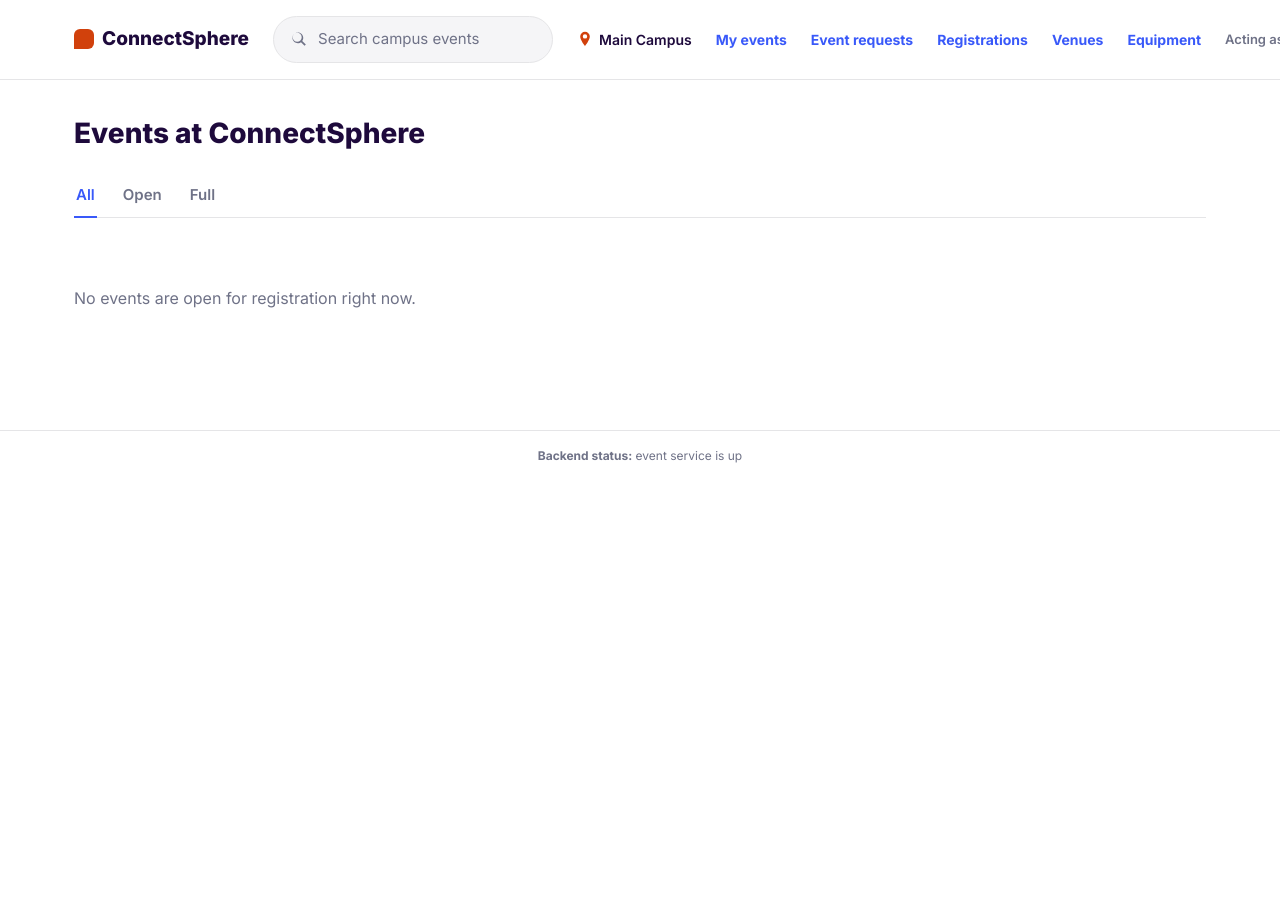
it: venue calendar (US21) › TC-US21-20: a coordinator sees another coordinator's booking without its reference (D58)
Click the button "Venues". click: (1078,39)
box: [1052,29,1104,50]
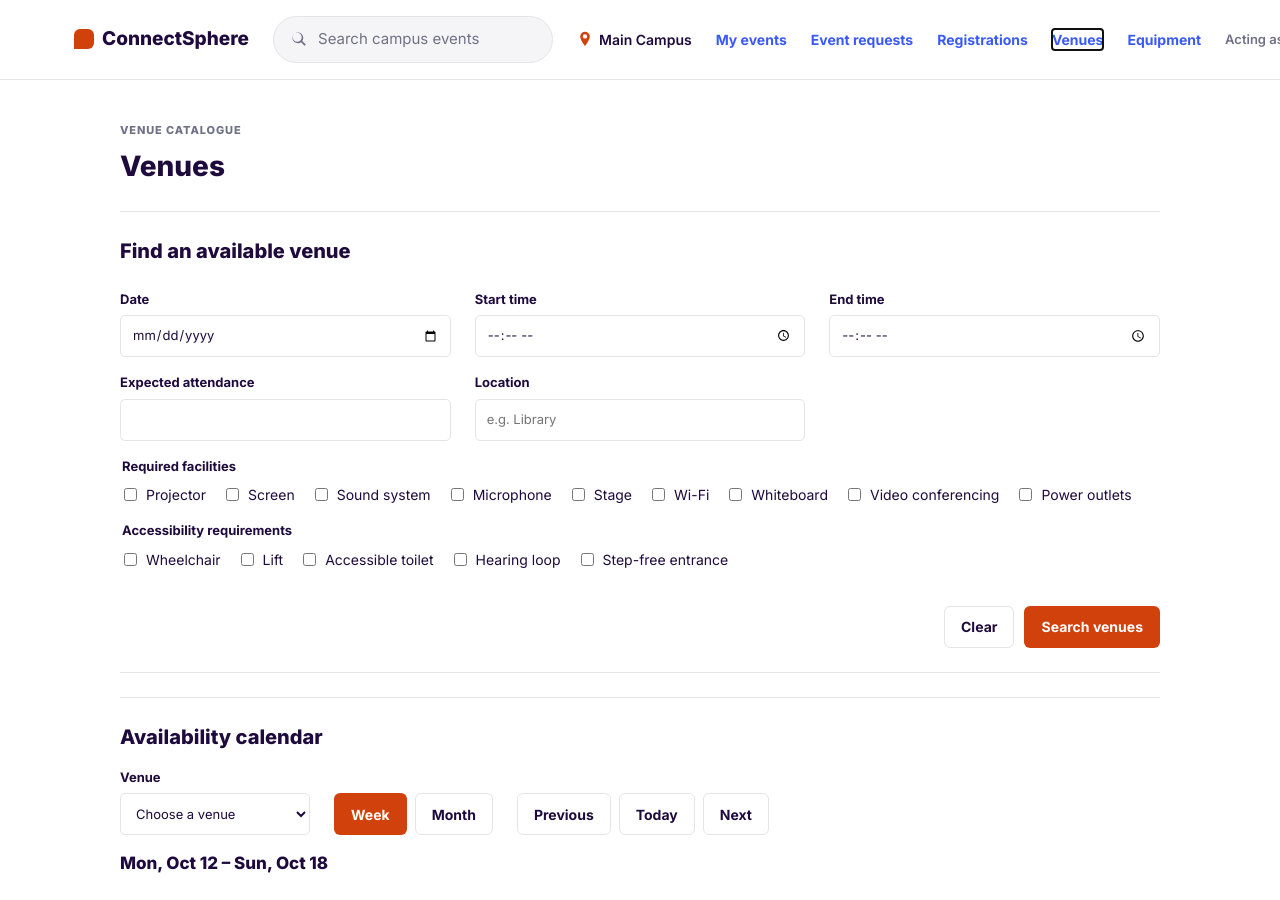
Expected: the heading "Venues" is shown, [120,144,242,186]
Select "SCIS Seminar Room 2-1" in the dropdown labelled "Venue". click: (215,814)
box: [120,793,310,835]
(page scrolled)
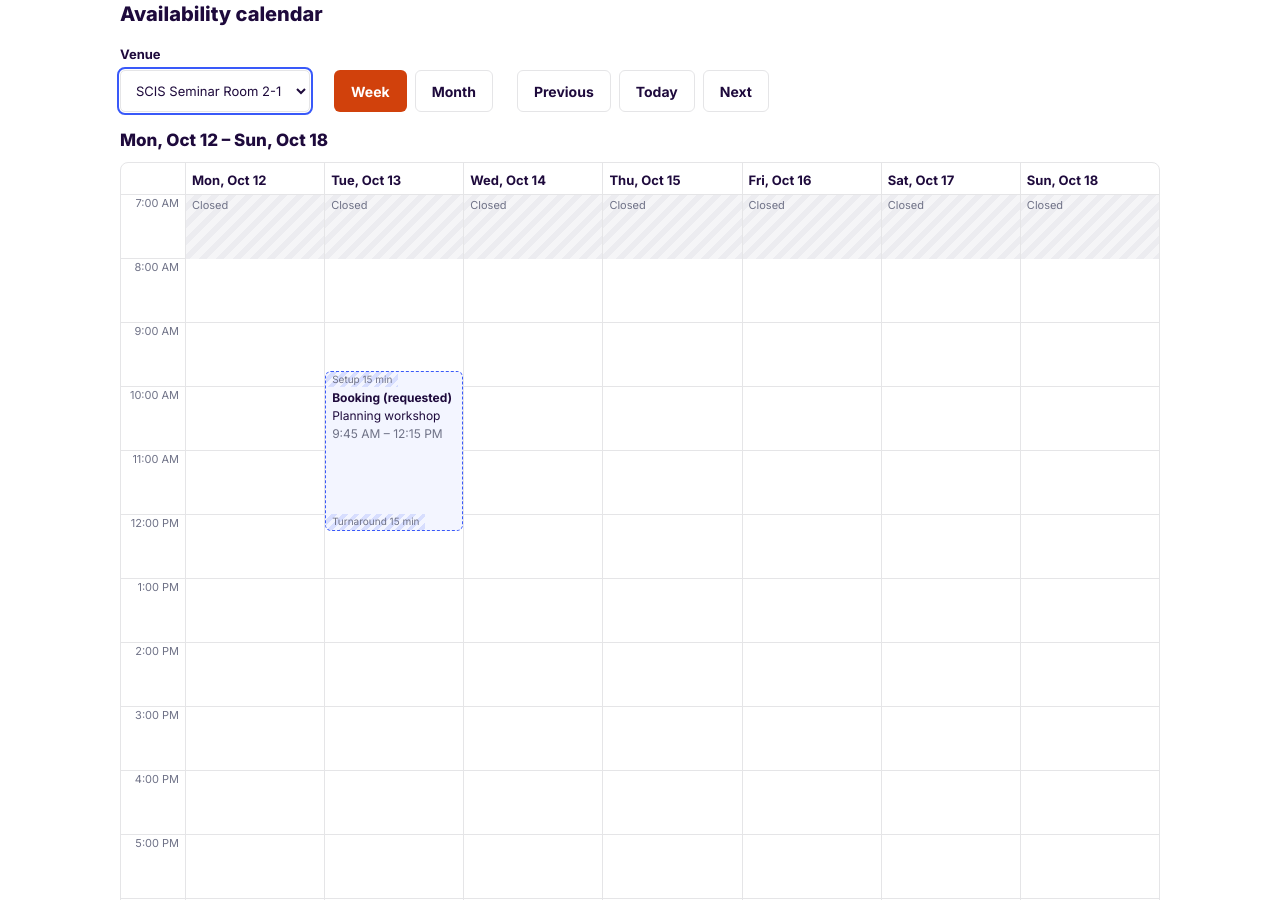
Click the button with aria-label "Booking (requested): Planning workshop". click: (394,450)
box: [325,370,463,530]
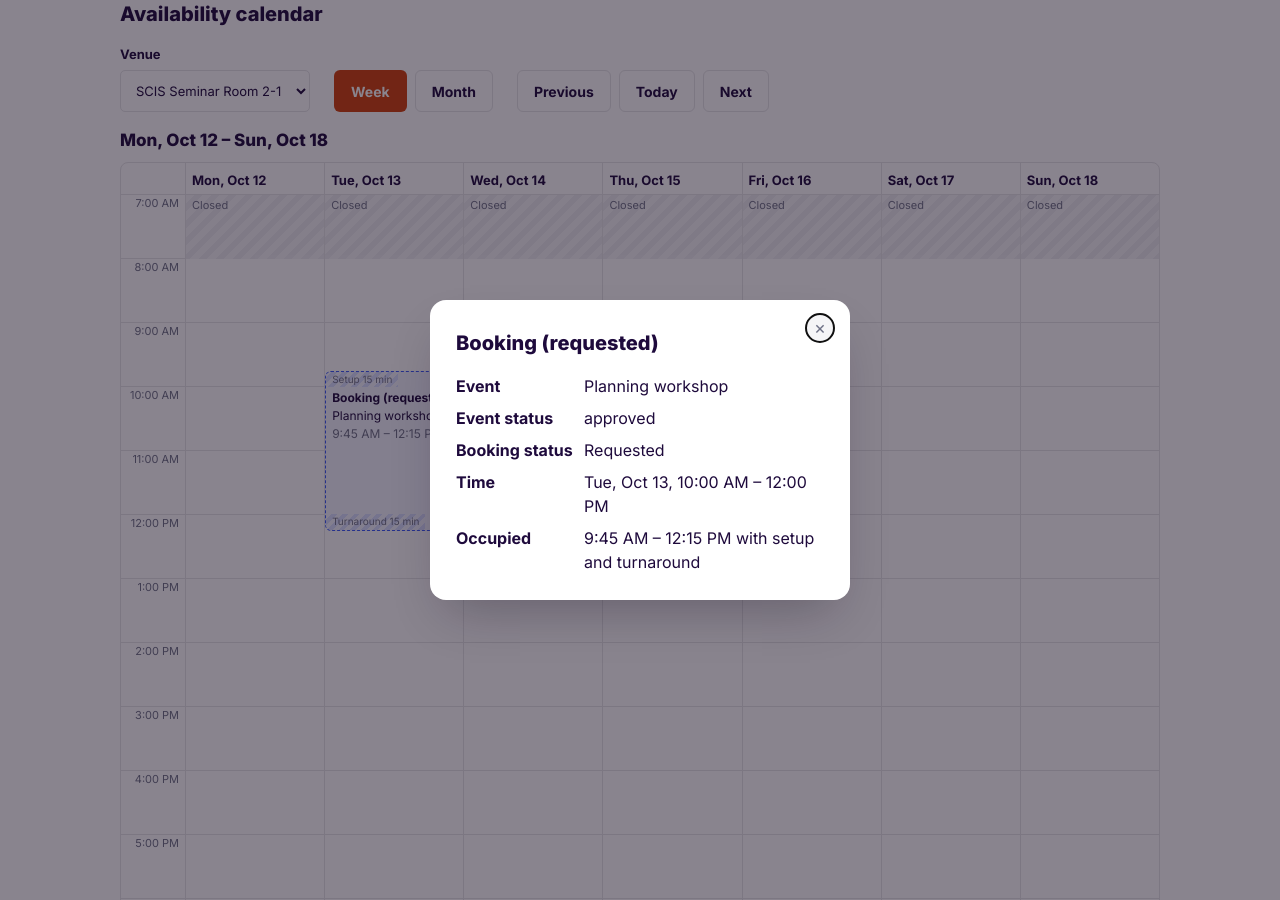
Expected: the dialog does not show "VB-", [430,300,850,600]
Expected: the dialog shows "Planning workshop", [584,376,728,396]
